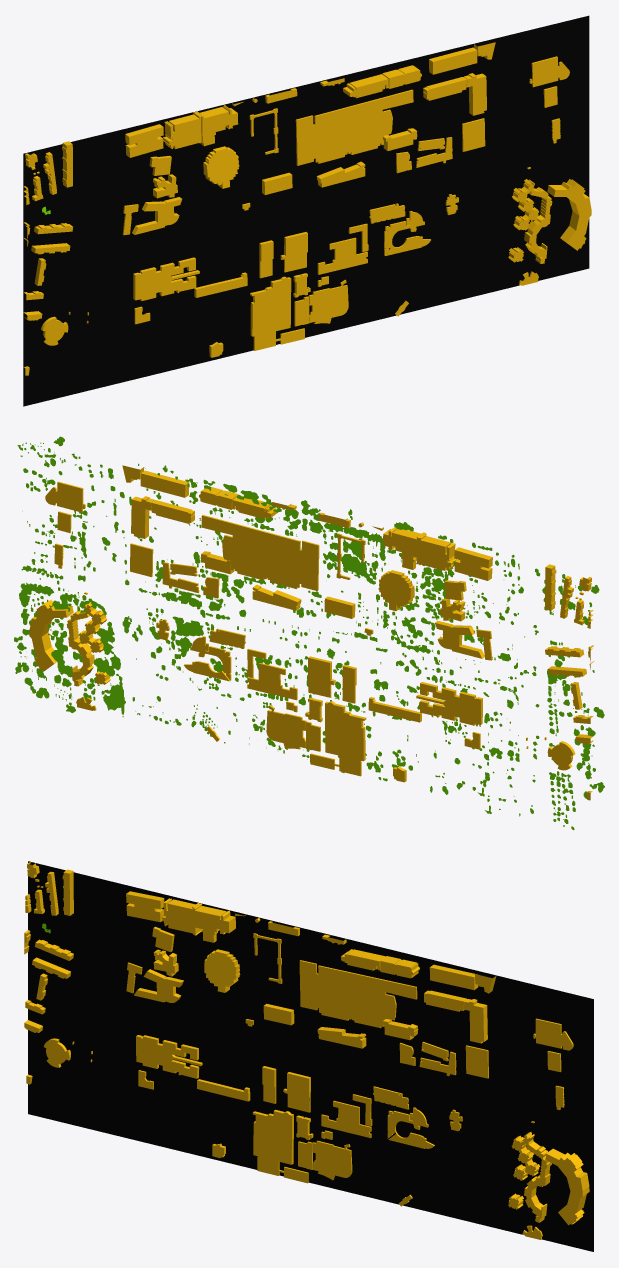
The model's file is new_trees_01.glb.
3 renders of one model, top to bottom at view 1: azimuth 30°, elevation 25°; view 2: azimuth 150°, elevation 25°; view 3: azimuth 330°, elevation 25°, orthographic.
Visible parts, largest first — view 1: Layer 04, existing_building - Copy; view 2: existing_building - Copy, treesurface, new trees; view 3: Layer 04, existing_building - Copy.
Part boxes in pixels (box(x1,y1,x2,y2)): Layer 04: box(23, 15, 589, 406); existing_building - Copy: box(23, 42, 591, 375); existing_building - Copy: box(29, 465, 593, 800); treesurface: box(14, 436, 604, 830); new trees: box(26, 448, 585, 822); Layer 04: box(28, 861, 593, 1251); existing_building - Copy: box(24, 862, 589, 1239).
Size of the model in its own units: 1035 by 458 by 20.85.
